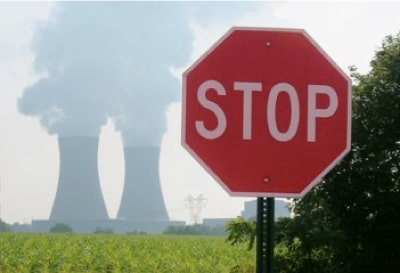StopSign: (180, 25, 355, 200)
